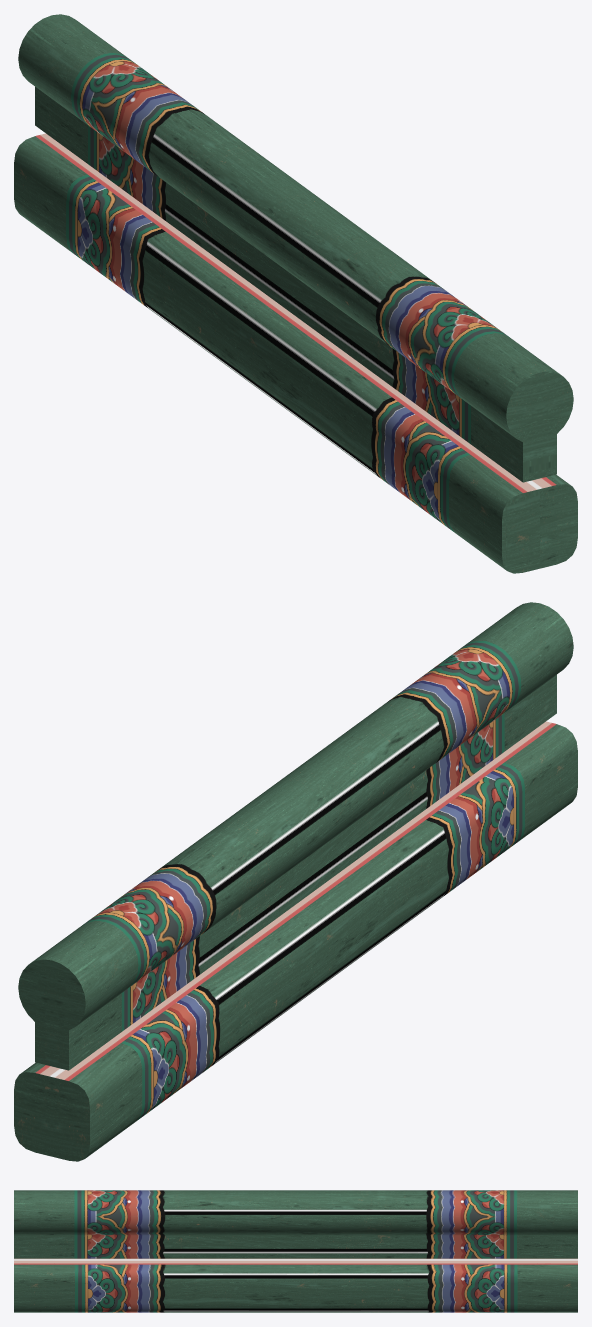
The model's file is SM_CGJ_Purlin05d.fbx.
3 views of the same model, one above another, from view 1: azimuth 30°, elevation 25°; view 2: azimuth 150°, elevation 25°; view 3: azimuth 270°, elevation 25° (orthographic). The views are drawn at different scales.
Visible parts, largest first — view 1: SM_CGJ_Purlin05d; view 2: SM_CGJ_Purlin05d; view 3: SM_CGJ_Purlin05d.
Part boxes in pixels (x1,y1,x2,y2): SM_CGJ_Purlin05d: [14, 14, 577, 573]; SM_CGJ_Purlin05d: [14, 602, 577, 1161]; SM_CGJ_Purlin05d: [14, 1190, 577, 1312].
Size of the model in its own units: 22.5 by 250 by 55.49.
1 material, 1 textured.
